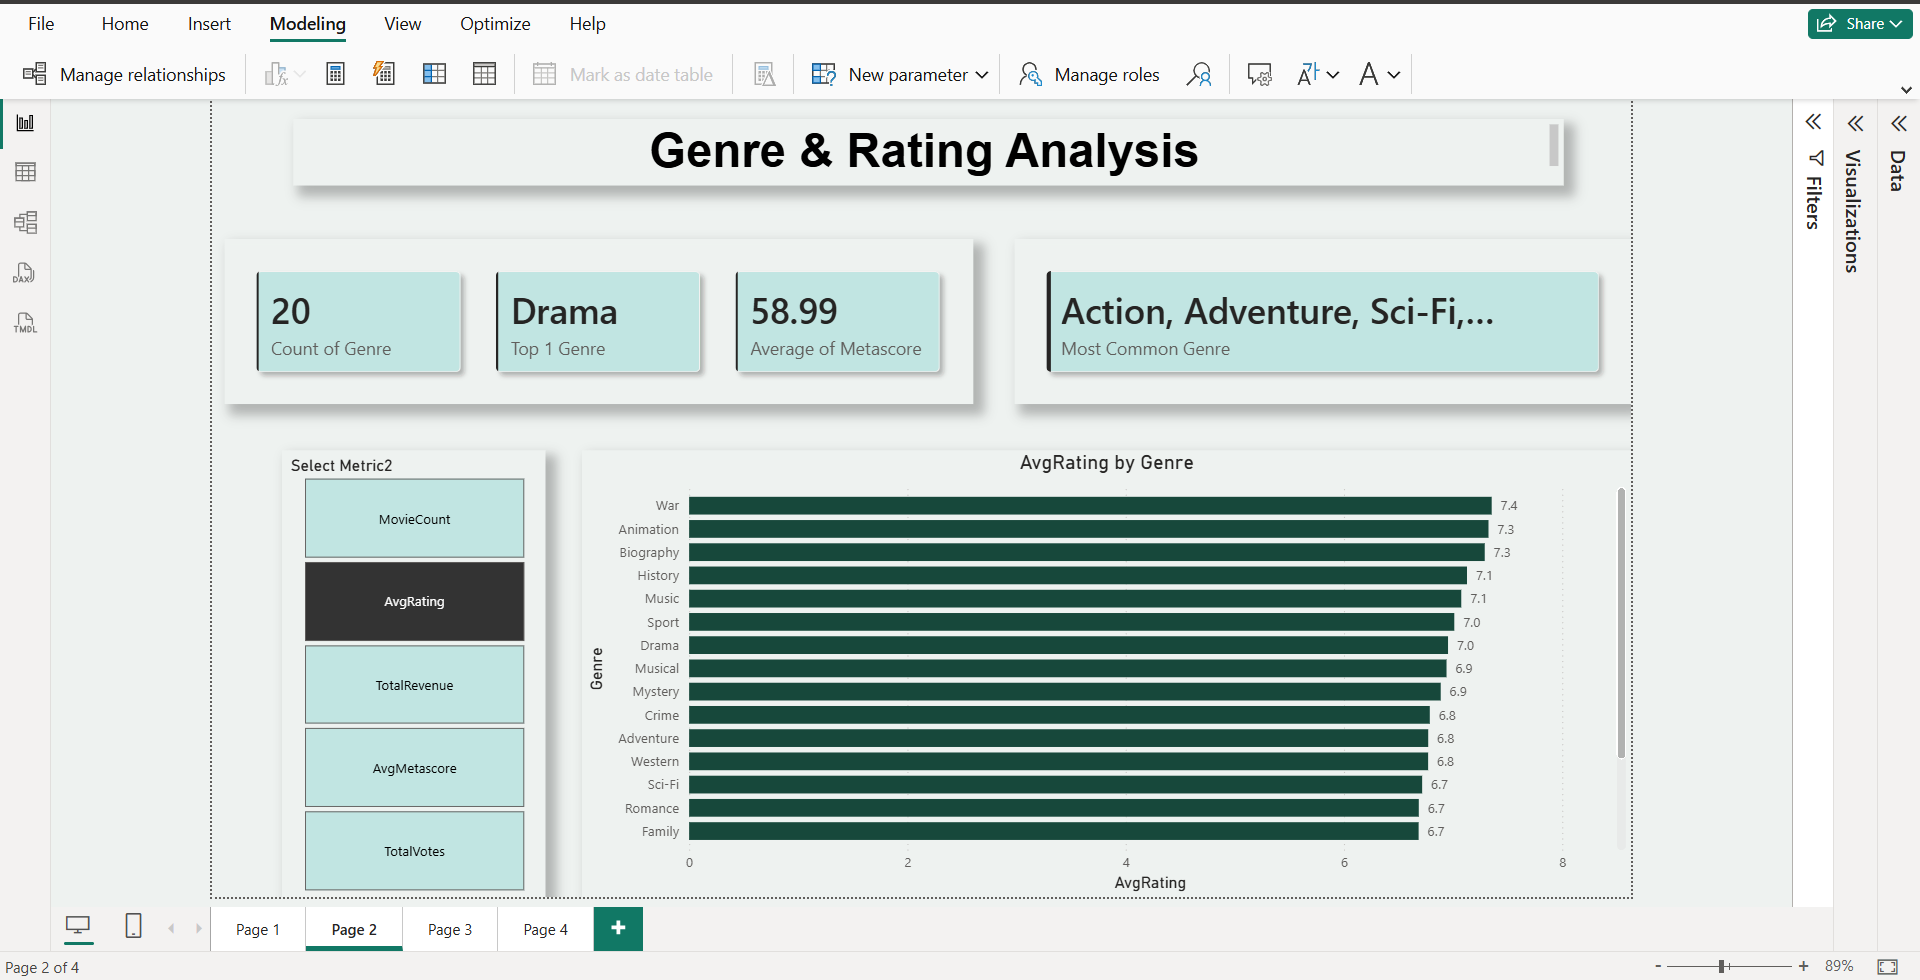

This screenshot's page, from the dashboard's own definition file:
{"tool":"powerbi","page":{"name":"Page 2","canvas":[1280,720],"ordinal":1},"visuals":[{"type":"barChart","fields":{"Y":["_Measure.MovieCount"],"Category":["Genre Table.Genre"]},"box":[333.8,316.7,946.5,403.5],"z":0},{"type":"slicer","fields":{"Values":["Select Metric2.Select Metric2"]},"box":[63.6,316.7,237.2,403.5],"z":1000},{"type":"textbox","box":[73.4,18.3,1145.8,59.9],"z":2000},{"type":"cardVisual","fields":{"Data":["Count(Genre Table.Genre)","_Measure.Top 1 Genre","Avg(IMDB-Movie-Data.Metascore)"]},"box":[11,126,675,149.2],"z":3000},{"type":"cardVisual","fields":{"Data":["_Measure.Most Common Genre"]},"box":[723.9,126,556.4,149.2],"z":4000}]}

Visuals, with their boxes on the page's 1280x720 design canvas (x1, y1, x2, y2). These are canvas units, not pixel positions in the 1920x980 screenshot, which may show the page scaled, cropped or inside an application window:
barChart - _Measure.MovieCount x Genre Table.Genre: <bbox>334, 317, 1280, 720</bbox>
slicer - Select Metric2.Select Metric2: <bbox>64, 317, 301, 720</bbox>
textbox: <bbox>73, 18, 1219, 78</bbox>
cardVisual - Count(Genre Table.Genre) x _Measure.Top 1 Genre: <bbox>11, 126, 686, 275</bbox>
cardVisual - _Measure.Most Common Genre: <bbox>724, 126, 1280, 275</bbox>
